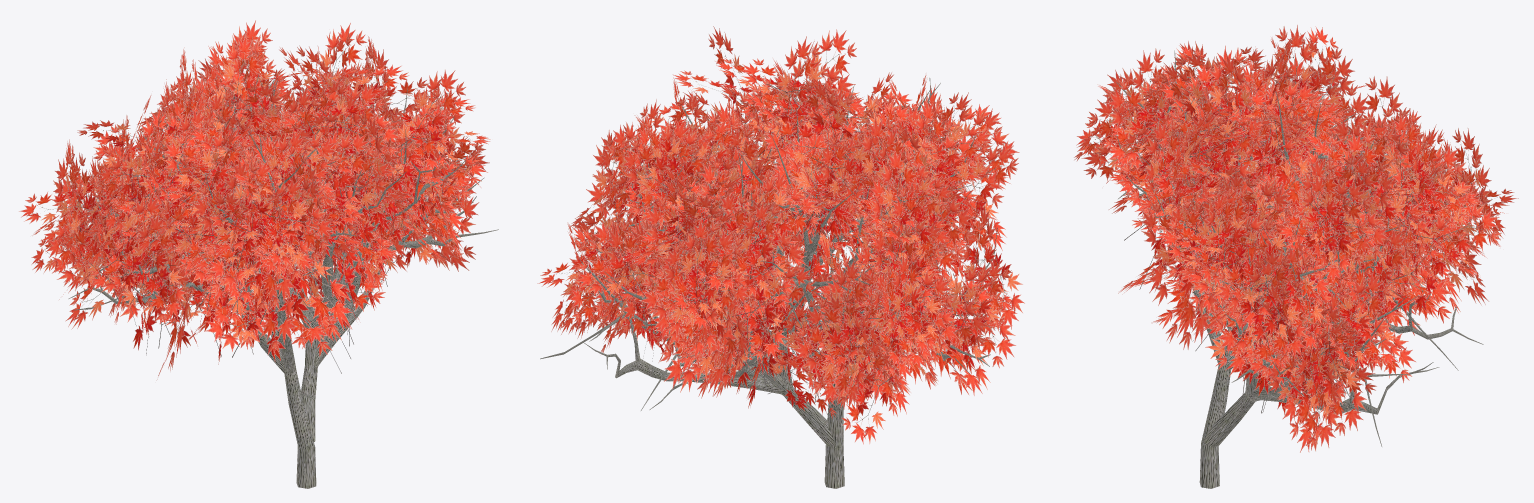
The model's file is Tree_3_2.glb.
3 views of the same model, side by side, from view 1: azimuth 30°, elevation 25°; view 2: azimuth 150°, elevation 25°; view 3: azimuth 270°, elevation 25° (orthographic). The views are drawn at different scales.
Visible parts, largest first — view 1: Tree_3_V2; view 2: Tree_3_V2; view 3: Tree_3_V2.
Part boxes in pixels (x1=…): Tree_3_V2: x1=19, y1=20, x2=498, y2=488; Tree_3_V2: x1=537, y1=26, x2=1024, y2=488; Tree_3_V2: x1=1074, y1=25, x2=1518, y2=488.
Size of the model in its own units: 3.48 by 3.34 by 3.06.
1 material, 1 textured.
